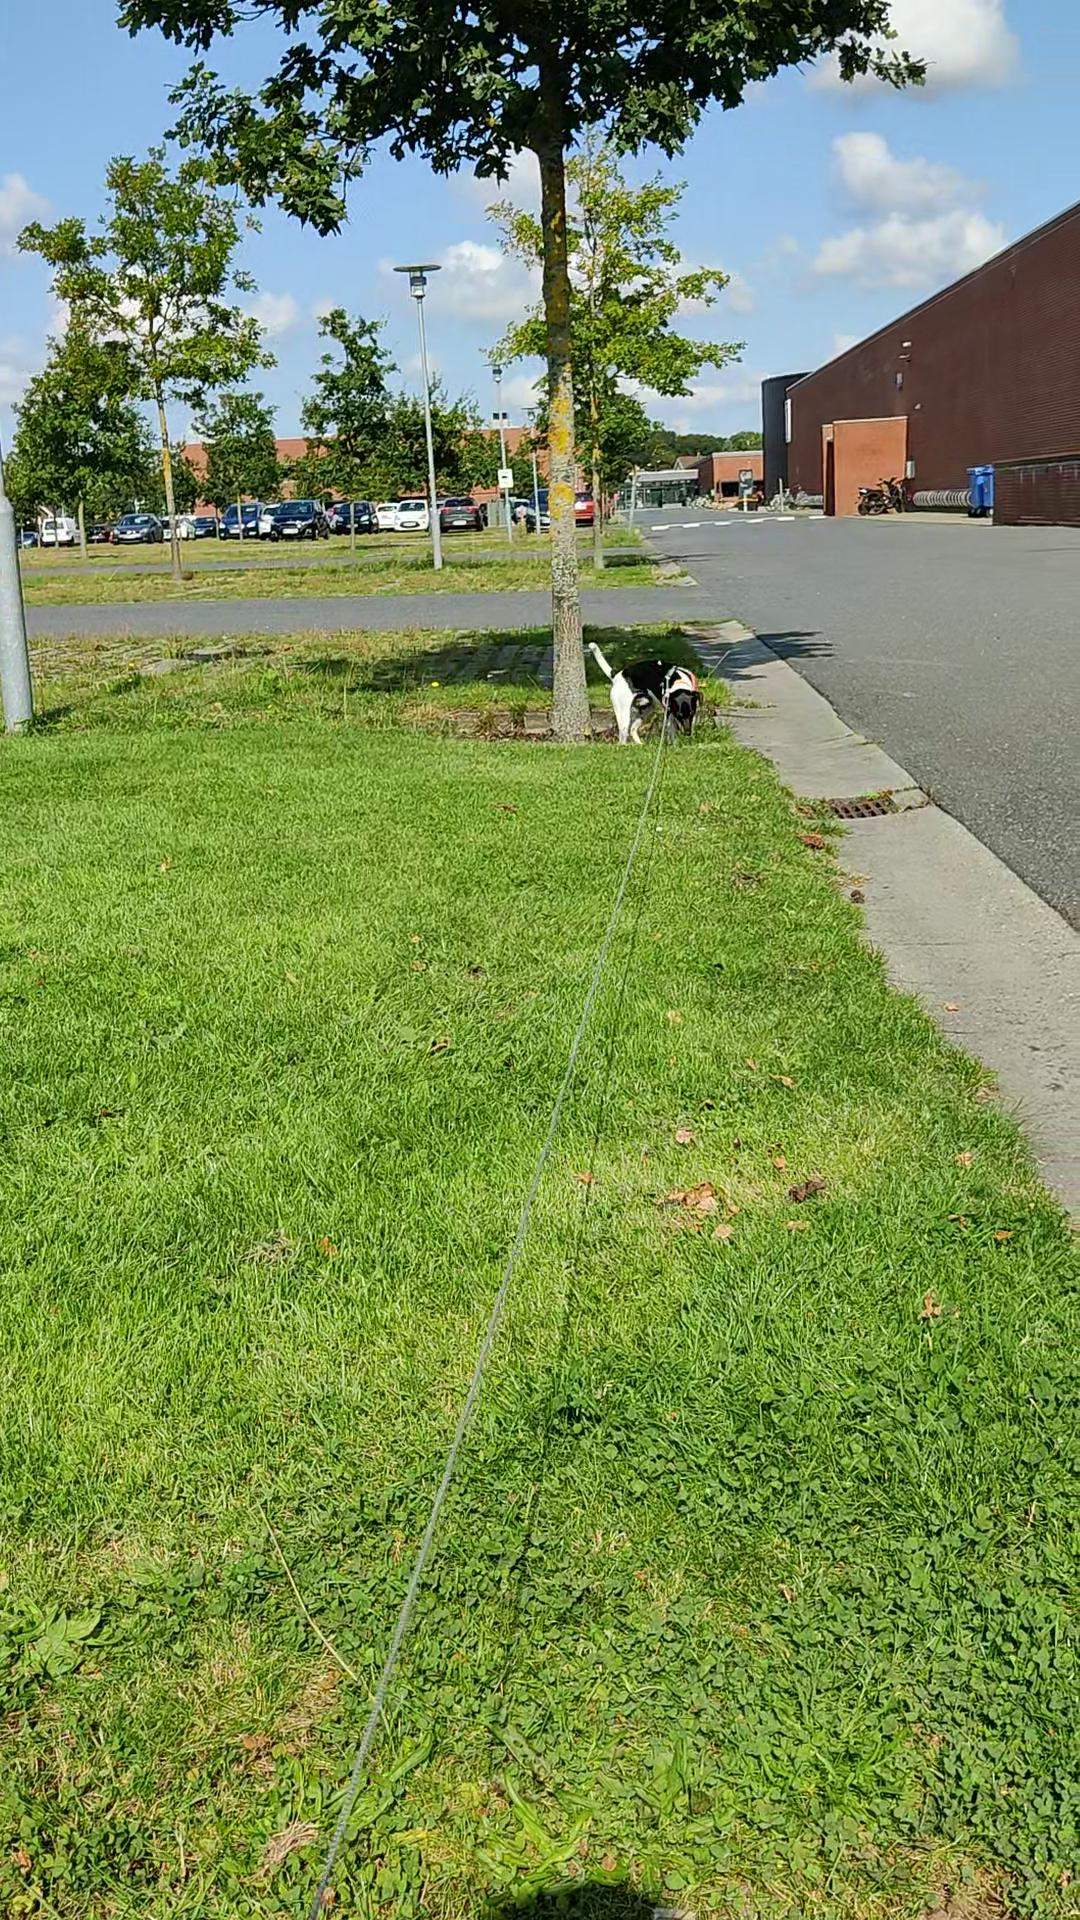Dog: (584, 640, 707, 748)
